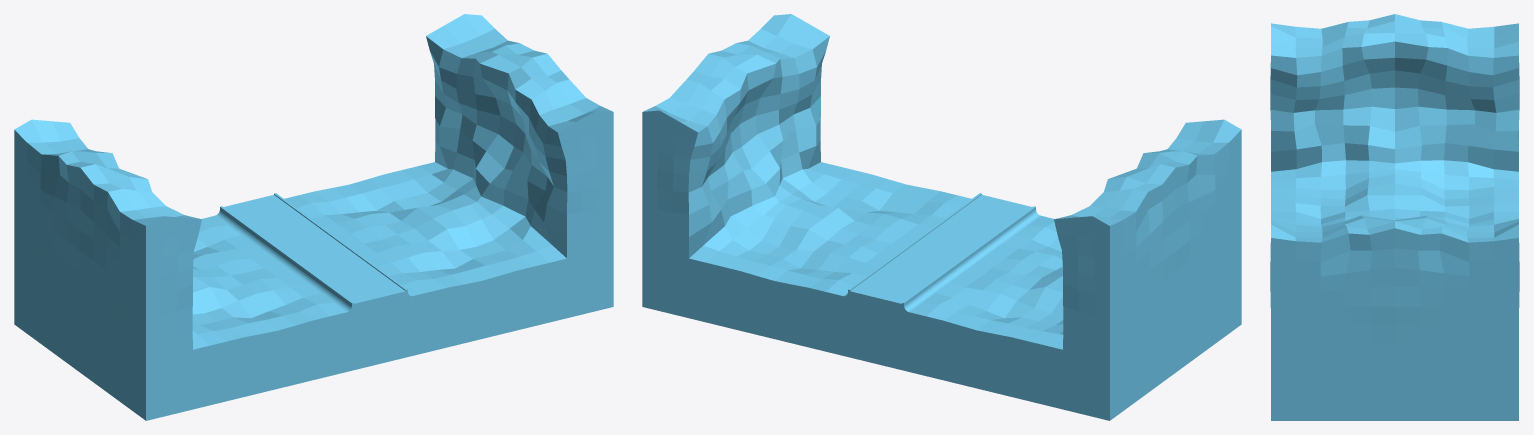
The model's file is Level2.fbx.
3 views of the same model, side by side, from view 1: azimuth 30°, elevation 25°; view 2: azimuth 150°, elevation 25°; view 3: azimuth 270°, elevation 25° (orthographic). The views are drawn at different scales.
Parts seen in each view (by area): view 1: Cube.006; view 2: Cube.006; view 3: Cube.006.
Boxes of the visible parts, <box> form: Cube.006: <box>14,14,613,420</box>; Cube.006: <box>642,14,1241,420</box>; Cube.006: <box>1270,14,1519,420</box>.
Size of the model in its own units: 2416 by 2058 by 4925.
